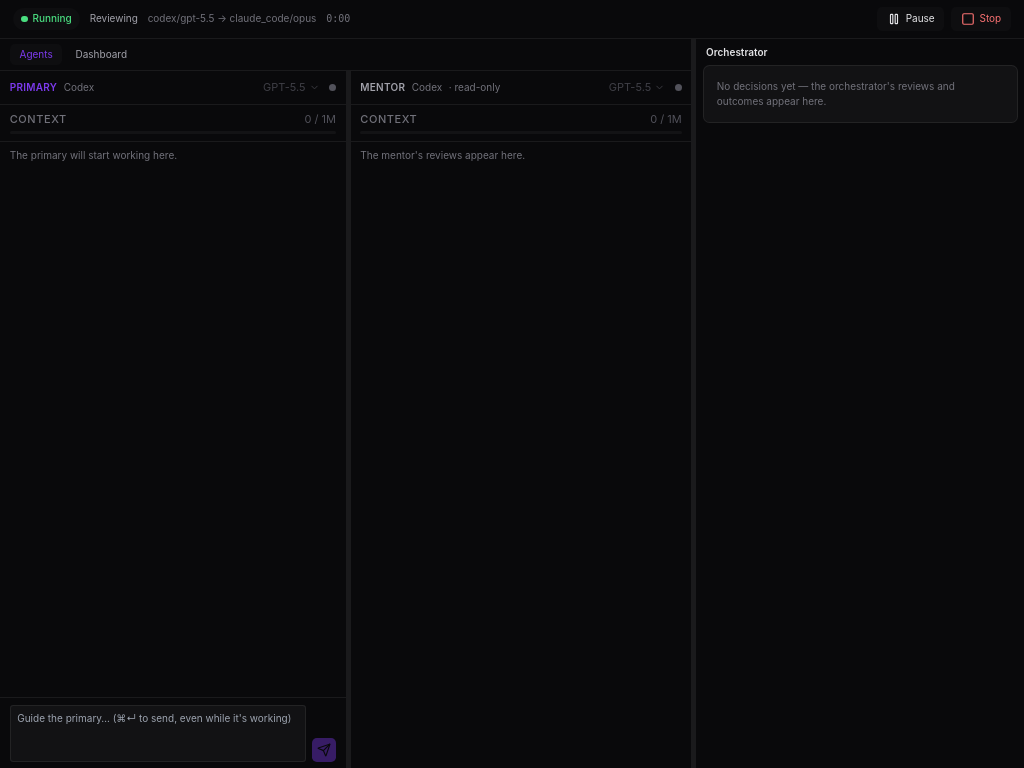
Scenario: DuoWorkspace › Stop is a two-step confirm
The image size is (1024, 768).
Click the button "Stop" at coordinates (981, 19), box [951,6,1011,31]
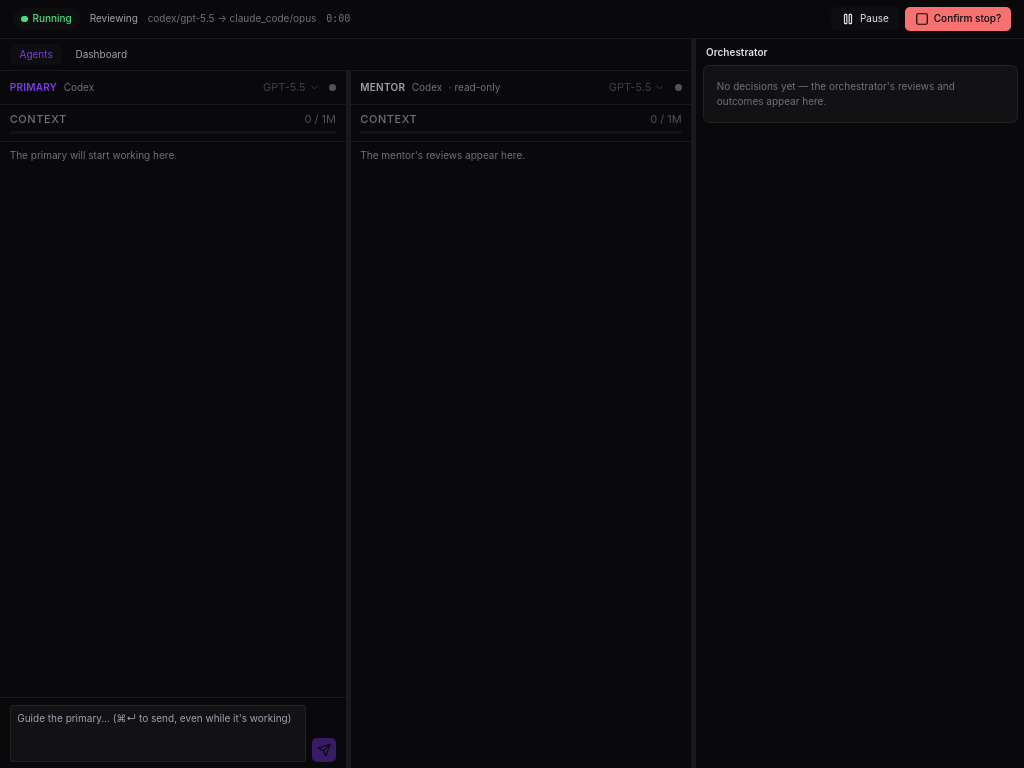
Now the button "Confirm stop?" is shown, box [905,6,1011,31]
